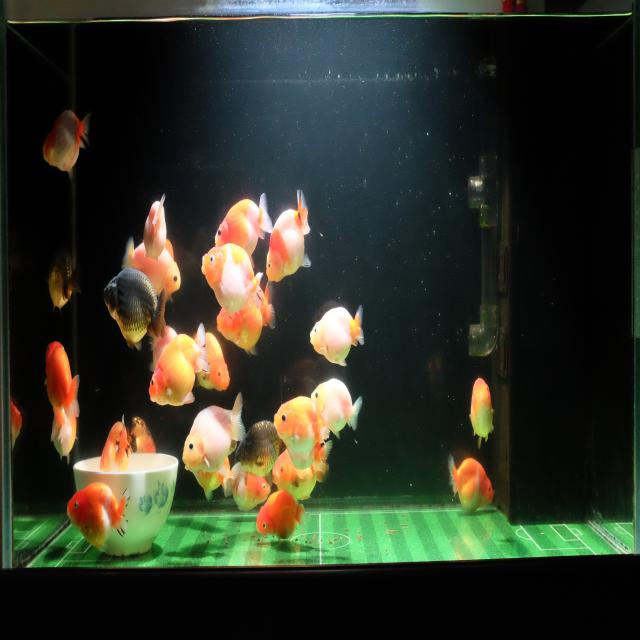Tilapia: (102, 262, 169, 353), (178, 393, 248, 474), (146, 324, 208, 408), (200, 240, 263, 320), (214, 280, 278, 358), (264, 185, 314, 283), (66, 480, 132, 552), (120, 236, 182, 304), (41, 105, 92, 183), (212, 191, 274, 254), (308, 301, 365, 368), (272, 394, 330, 458), (310, 376, 364, 443), (445, 450, 496, 519), (271, 443, 329, 503), (44, 236, 83, 323), (43, 338, 82, 423), (233, 417, 286, 479), (255, 490, 309, 548), (224, 461, 272, 518), (194, 326, 232, 396), (95, 416, 134, 473), (140, 189, 168, 268), (468, 374, 496, 449), (49, 399, 79, 464), (128, 412, 160, 456)
